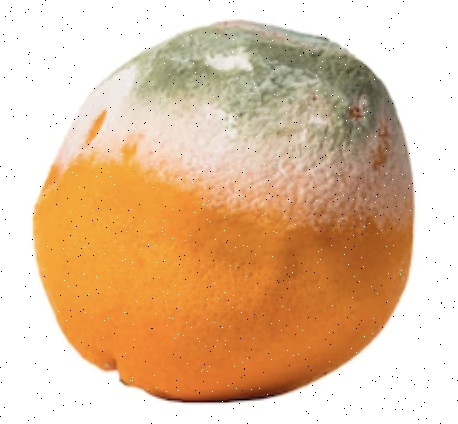rotten_orange: (33, 21, 415, 404)
